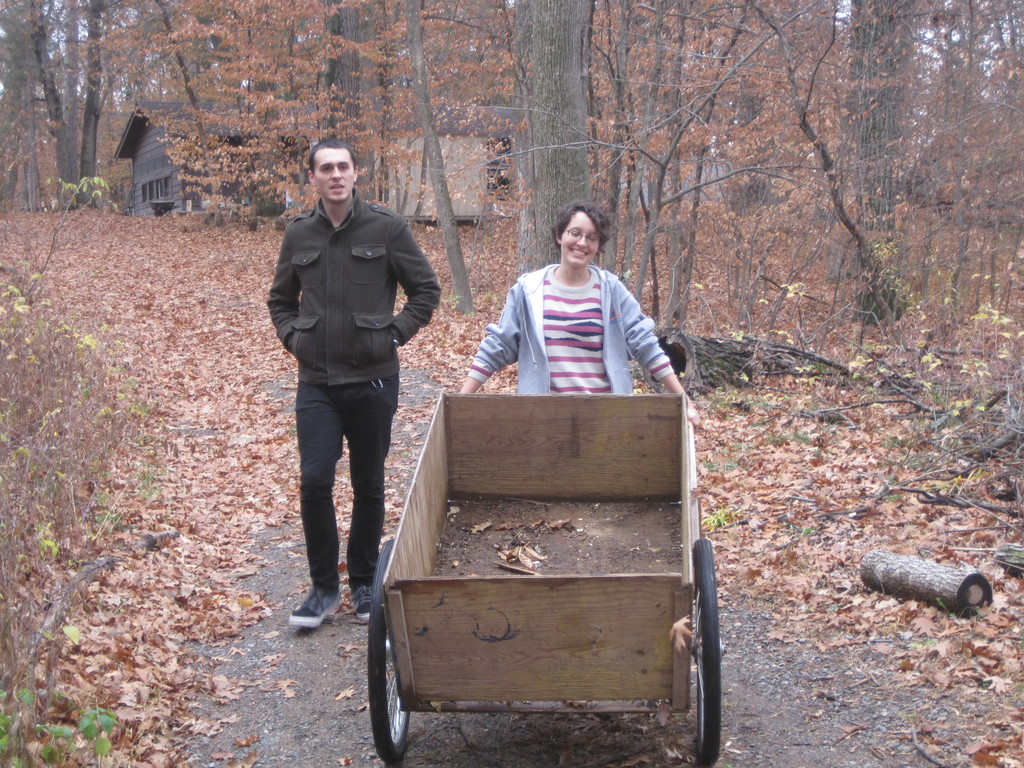Wheel: (369, 532, 419, 767), (690, 538, 726, 767)
